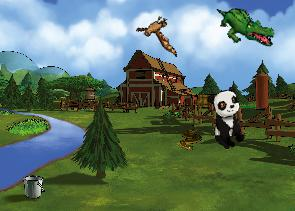crocodile: (214, 6, 276, 47)
eagle: (131, 10, 186, 57)
panda: (205, 86, 249, 151)
